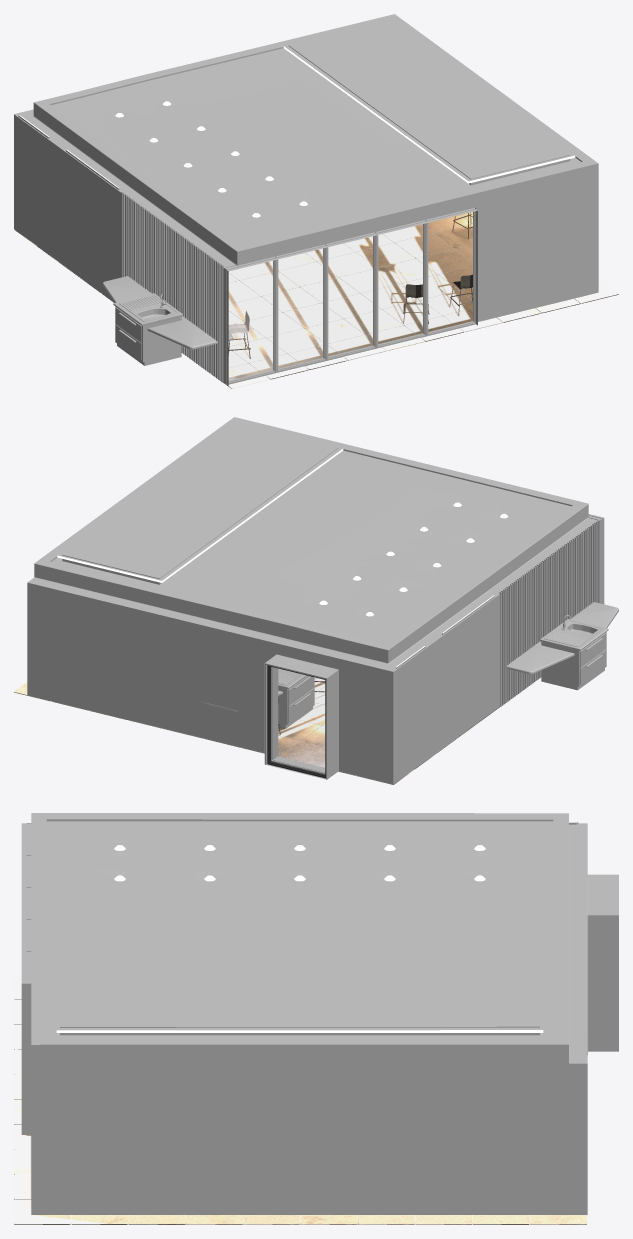
Rendered from kitchendemo.gltf.
3 renders of one model, top to bottom at view 1: azimuth 30°, elevation 25°; view 2: azimuth 150°, elevation 25°; view 3: azimuth 270°, elevation 25°, orthographic. The views are drawn at different scales.
Parts seen in each view (by area): view 1: walls, floor.tiles, Cube, sink.001, walls.001; view 2: walls, Cube, sink.001, floor.tiles, sink; view 3: walls, floor.tiles, walls.001.
Boxes of the visible parts, x1,y1,x2,y2 form: walls: [14, 14, 598, 385]; floor.tiles: [15, 212, 618, 388]; Cube: [121, 192, 223, 382]; sink.001: [102, 276, 233, 365]; walls.001: [224, 207, 476, 384]; walls: [27, 417, 604, 784]; Cube: [499, 519, 599, 706]; sink.001: [506, 602, 618, 690]; floor.tiles: [14, 677, 499, 784]; sink: [200, 668, 314, 728]; walls: [21, 813, 618, 1214]; floor.tiles: [14, 975, 586, 1224]; walls.001: [26, 823, 31, 1135].
Size of what is drawn, in the model's own units: 9.49 by 2.82 by 8.7.
